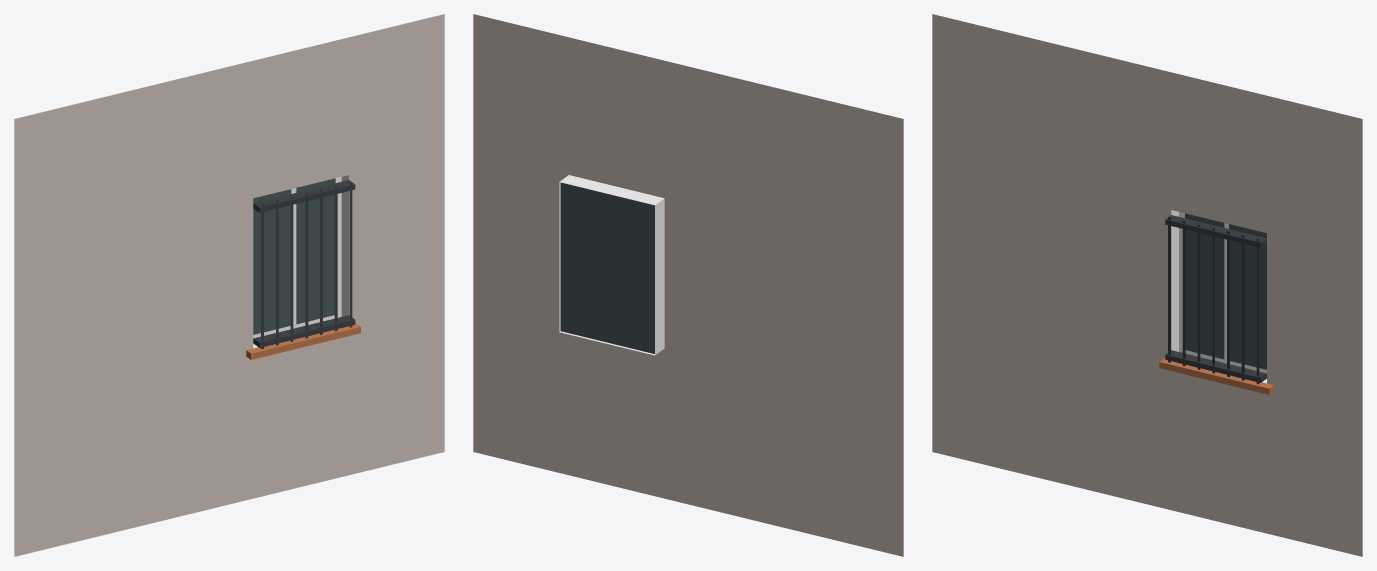
The model's file is top-w2.fbx.
The picture shows the model from 3 angles, left to right: view 1: azimuth 30°, elevation 25°; view 2: azimuth 150°, elevation 25°; view 3: azimuth 330°, elevation 25°; orthographic projection.
Visible parts, largest first — view 1: a2000s2/200/top-w2; view 2: a2000s2/200/top-w2; view 3: a2000s2/200/top-w2.
Boxes of the visible parts, x1,y1,x2,y2 form: a2000s2/200/top-w2: [14, 14, 444, 556]; a2000s2/200/top-w2: [473, 14, 903, 556]; a2000s2/200/top-w2: [932, 14, 1362, 556].
Bounding box in the file's own units: 3.6 × 3.5 × 0.23.
